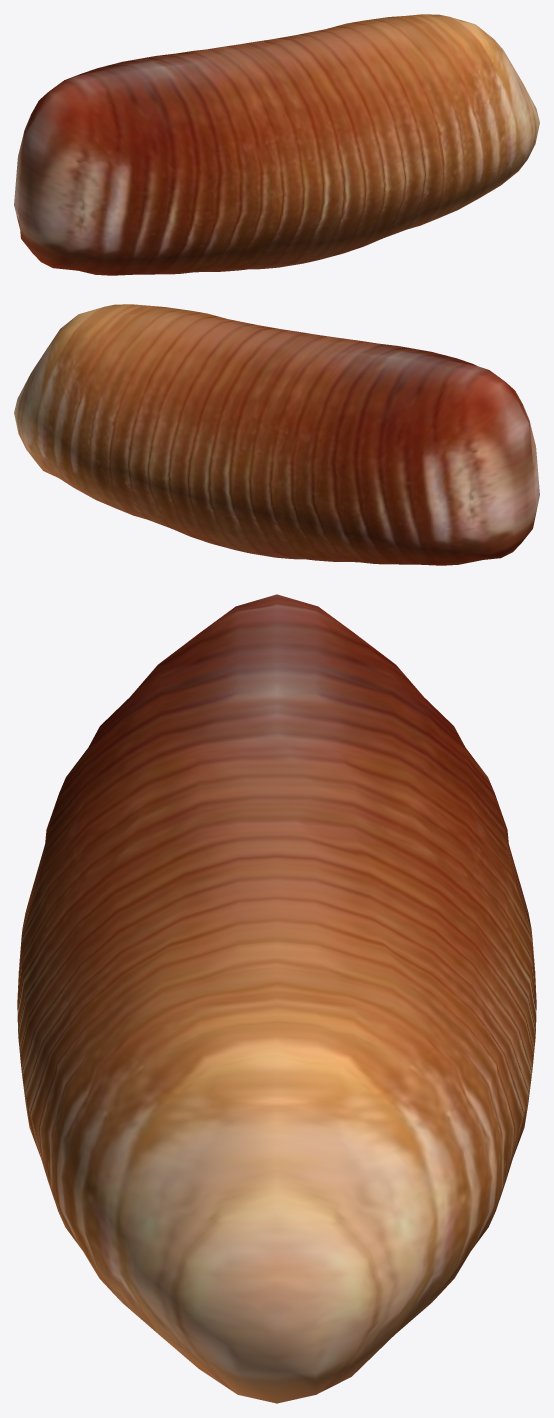
Rendered from Egg.FBX.
3 views of the same model, one above another, from view 1: azimuth 30°, elevation 25°; view 2: azimuth 150°, elevation 25°; view 3: azimuth 270°, elevation 25° (orthographic). The views are drawn at different scales.
Parts seen in each view (by area): view 1: model_964809854946; view 2: model_964809854946; view 3: model_964809854946.
Part boxes in pixels (bbox=[...]): model_964809854946: bbox=[14, 14, 539, 275]; model_964809854946: bbox=[14, 304, 539, 565]; model_964809854946: bbox=[17, 594, 536, 1403].
Size of the model in its own units: 1.31 by 0.545 by 0.5804.
1 material, 1 textured.
